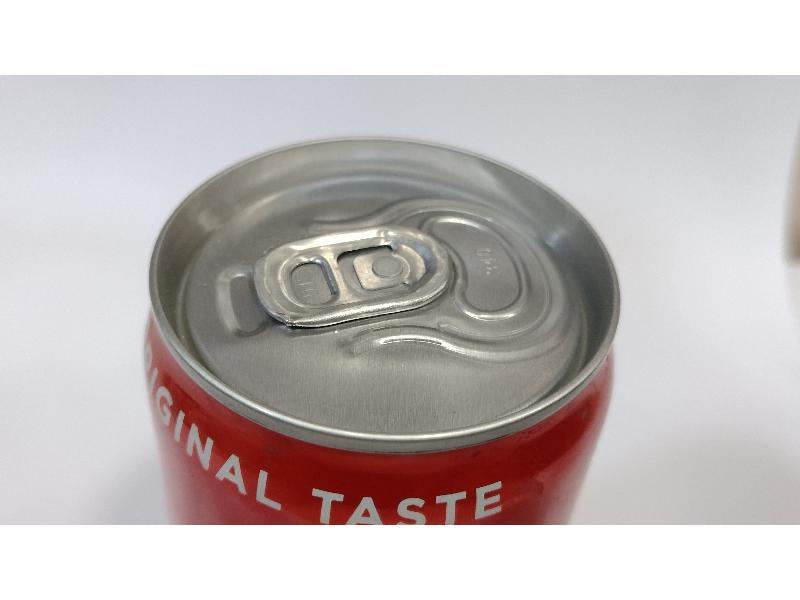can: (135, 125, 632, 519)
